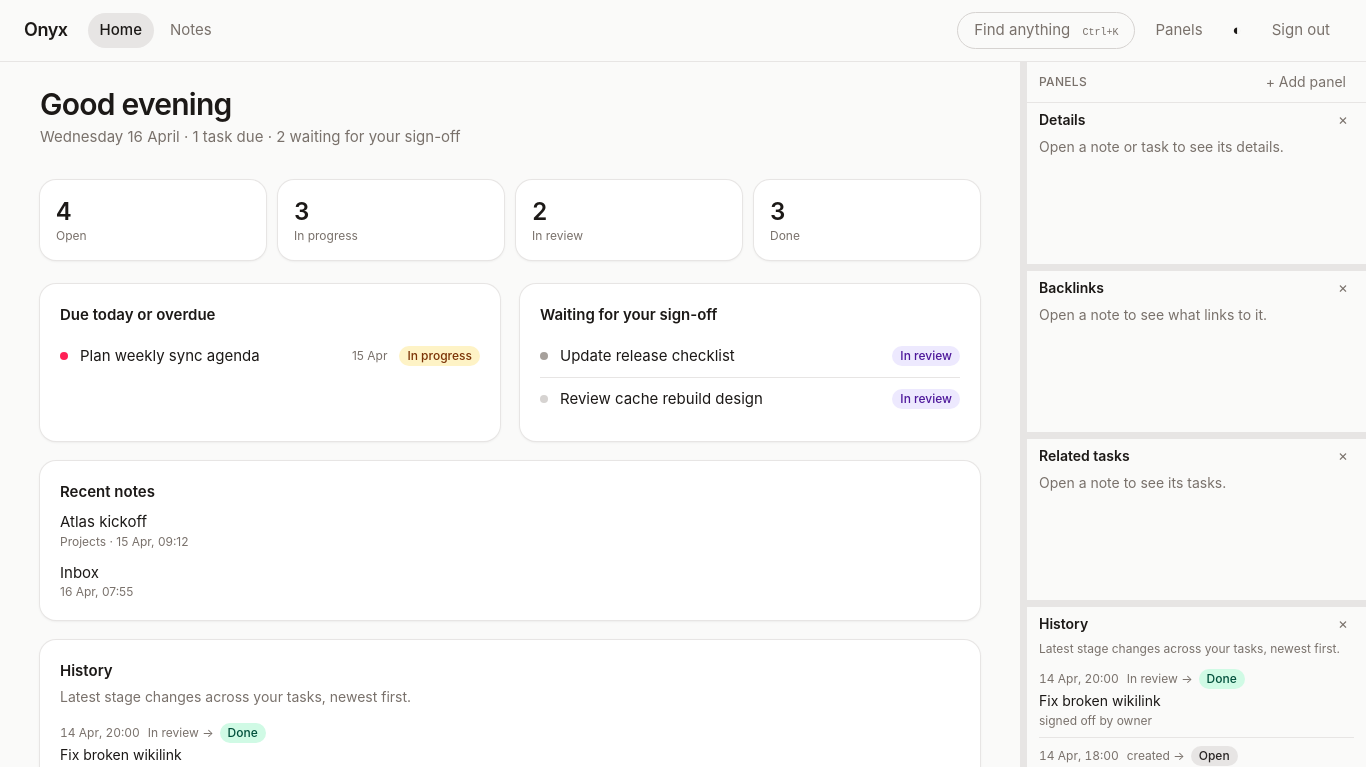
Test: ⌘K palette › filters as you type
Expected: the heading "Due today or overdue" is shown, [60,305,215,324]
Type keys "{Meta>}k{/Meta}"
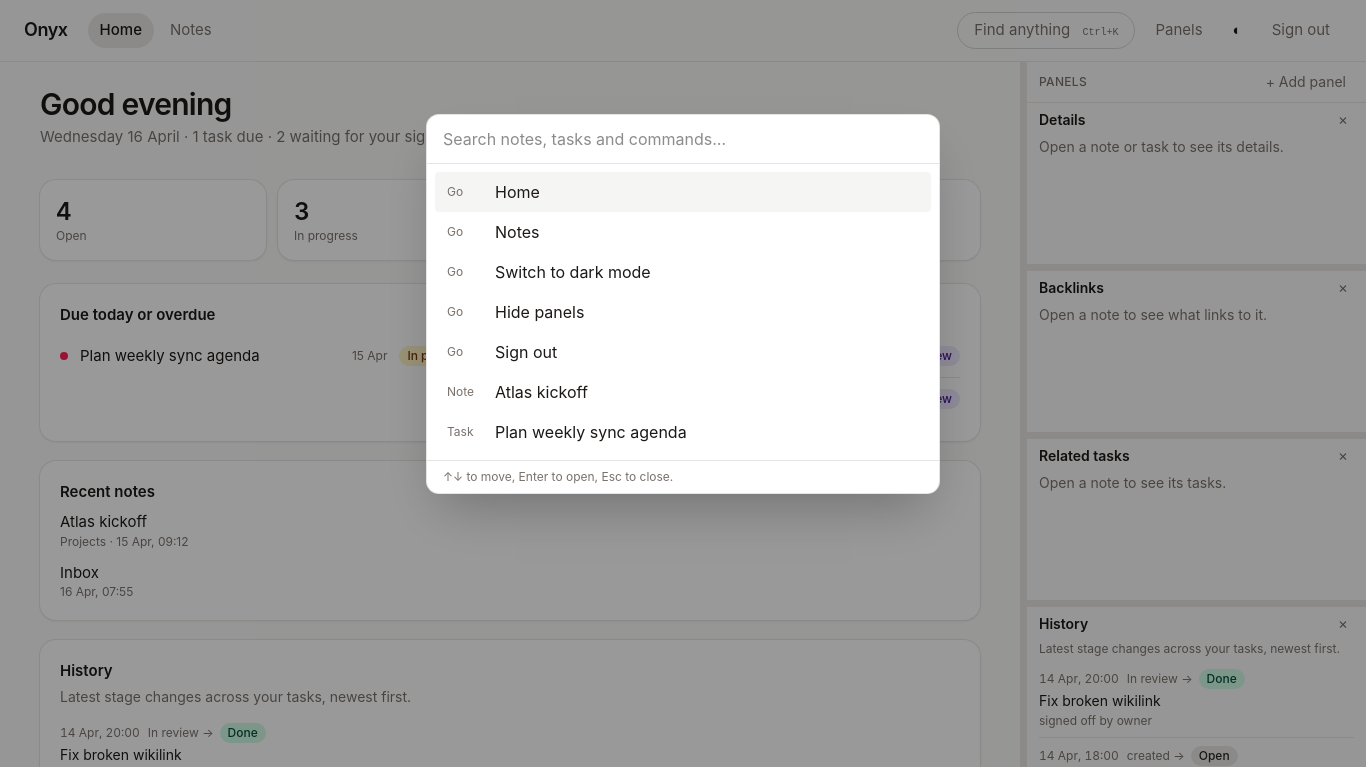
Result: the option "Note Atlas kickoff" is shown at [447,382,588,402]
Type "weekly" into the dropdown labelled "Search notes, tasks and commands". click: point(683, 140)
box: [427,115,939,164]
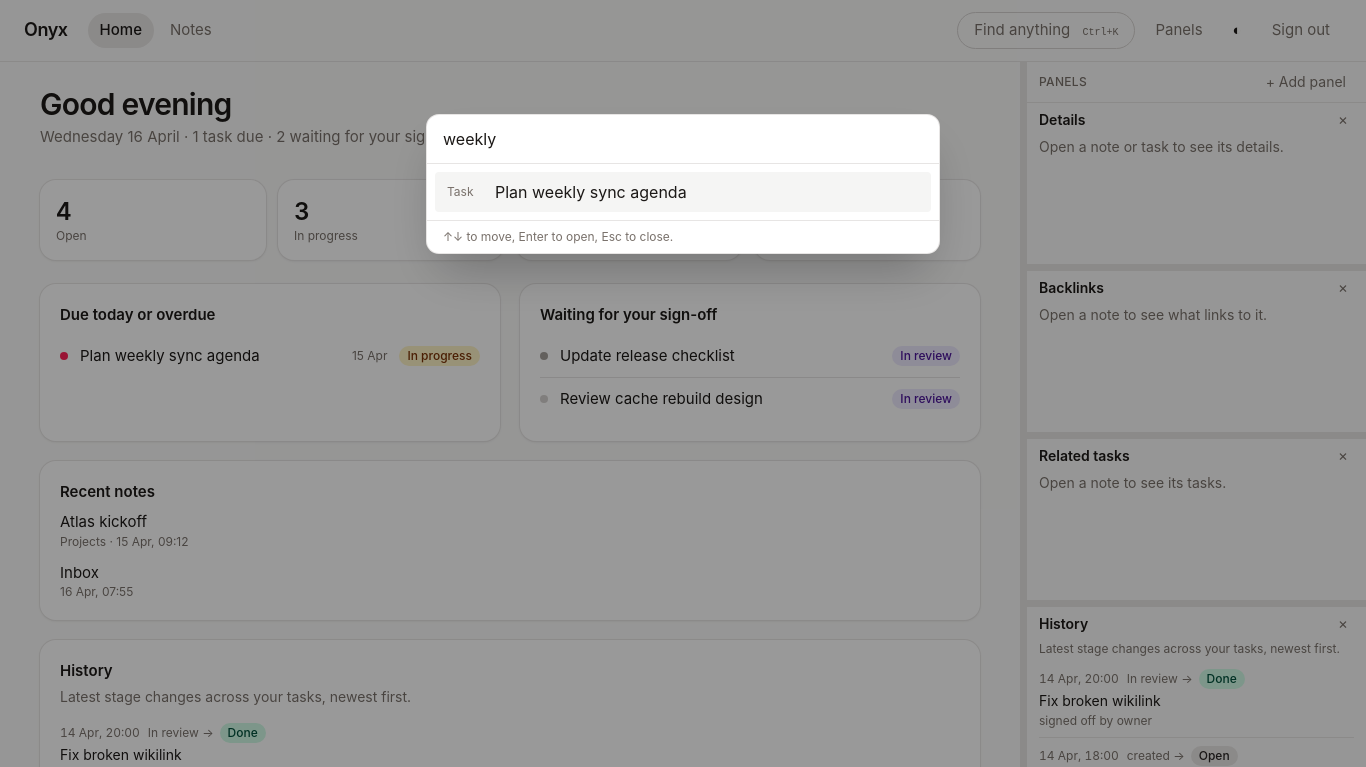
Result: the option shows "Plan weekly sync agenda" at [435,172,931,212]
Result: the number of options is 1 at [435,172,931,212]
Replace the text in the dropdown named "Search notes, tasks and commands" with "zzz". click: point(683, 140)
box: [427,115,939,164]
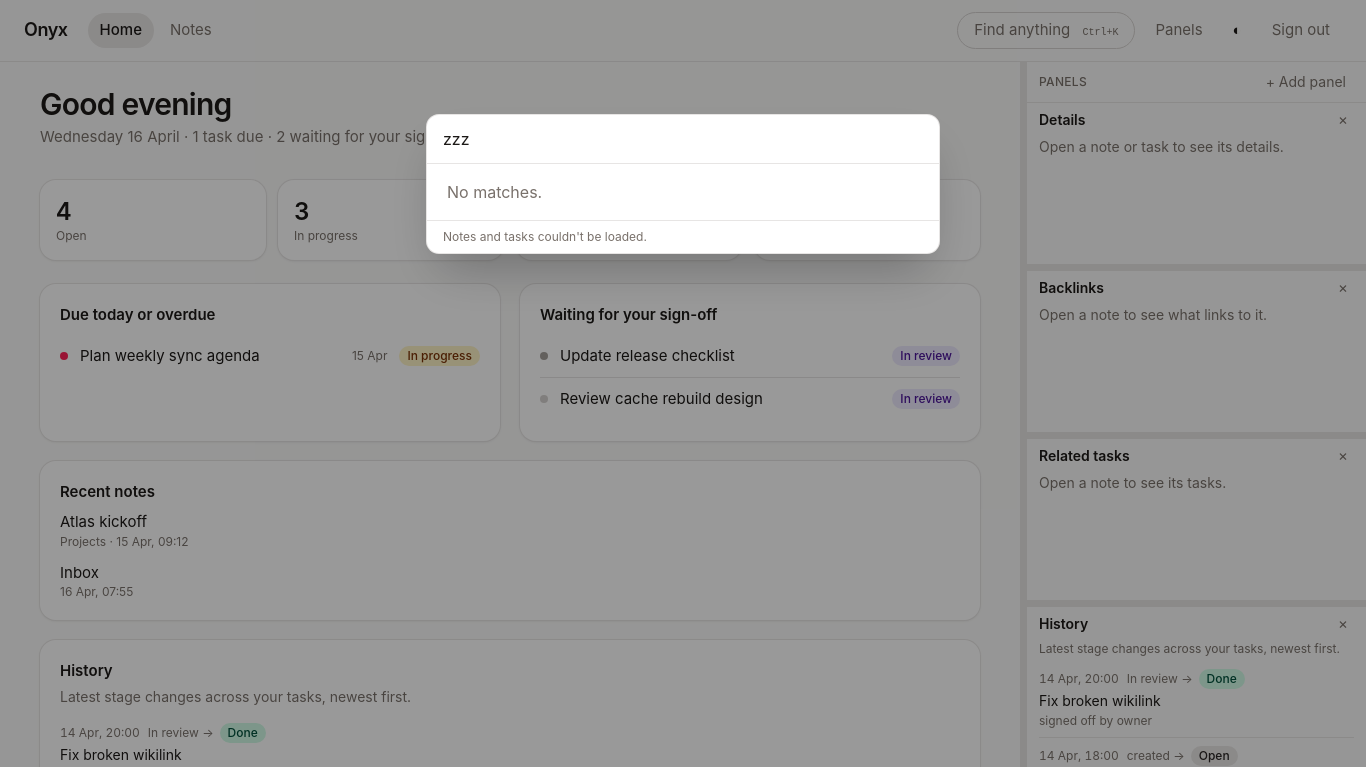
Result: the list item "No matches." is shown at [447,182,542,202]
